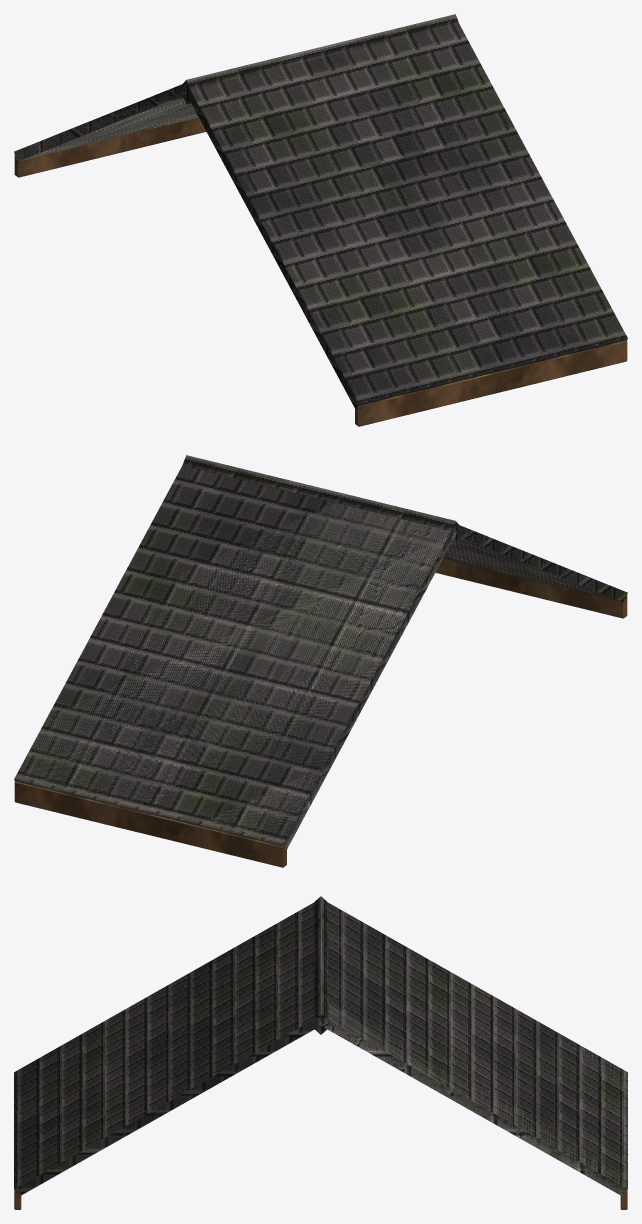
Rendered from roof_gable_8.glb.
3 renders of one model, top to bottom at view 1: azimuth 30°, elevation 25°; view 2: azimuth 150°, elevation 25°; view 3: azimuth 270°, elevation 25°, orthographic. The views are drawn at different scales.
Visible parts, largest first — view 1: roof_gable_8_mesh, roof_gable_8_col-colonly.001; view 2: roof_gable_8_mesh, roof_gable_8_col-colonly.001; view 3: roof_gable_8_mesh, roof_gable_8_col-colonly.001.
Part boxes in pixels (x1=…): roof_gable_8_mesh: x1=14, y1=14, x2=627, y2=426; roof_gable_8_col-colonly.001: x1=14, y1=85, x2=198, y2=161; roof_gable_8_mesh: x1=14, y1=455, x2=627, y2=867; roof_gable_8_col-colonly.001: x1=16, y1=491, x2=456, y2=850; roof_gable_8_mesh: x1=14, y1=896, x2=627, y2=1209; roof_gable_8_col-colonly.001: x1=319, y1=1003, x2=627, y2=1196.
Size of what is drawn, in the model's own units: 4 by 3.15 by 8.87.
3 materials, 3 textured.
